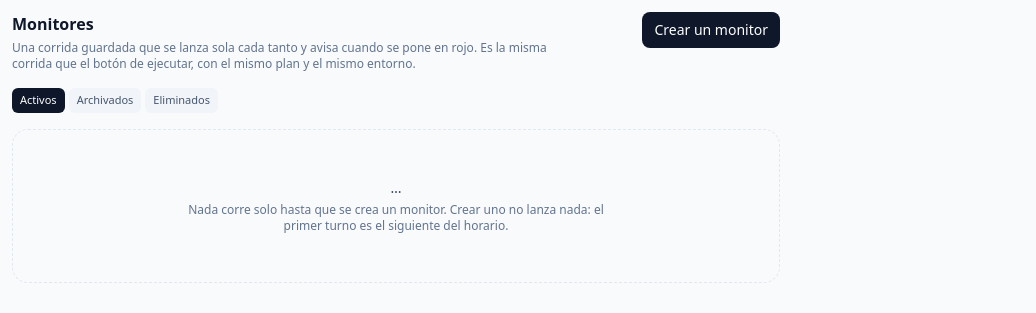
Test: los tres filtros de los monitores › restaurar desde la papelera, y un fallo se dice
Click the tab "Eliminados". click: click(182, 100)
box: [145, 88, 218, 112]
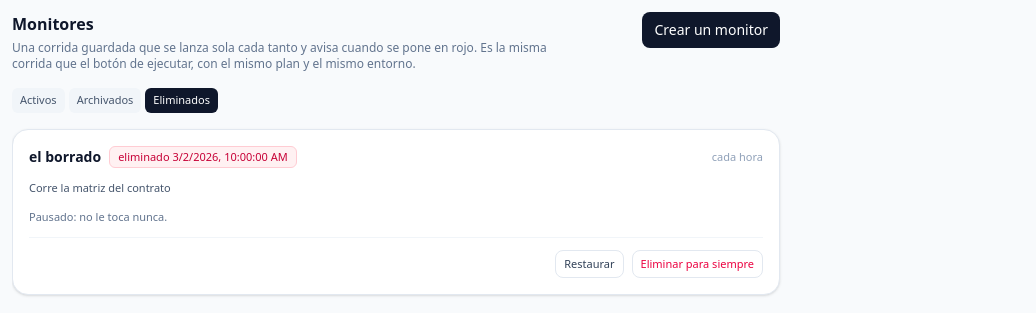
Click the button "Restaurar". click: click(589, 264)
box: [555, 250, 624, 278]
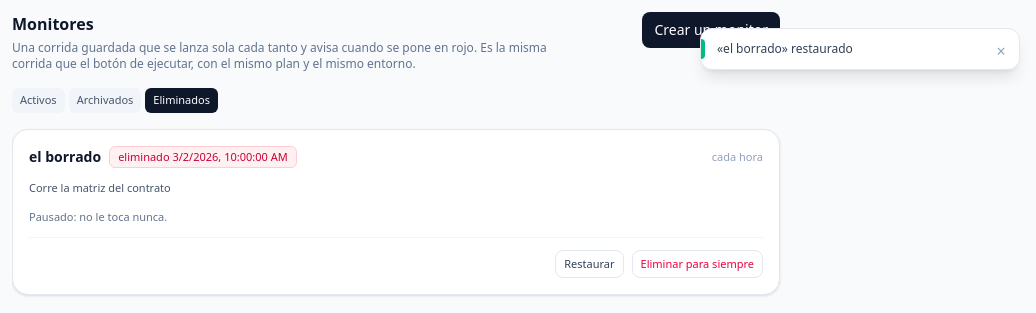
expect the text "«el borrado» restaurado" is shown: met, box [717, 40, 853, 57]
Click the button "Restaurar". click: click(589, 264)
box: [555, 250, 624, 278]
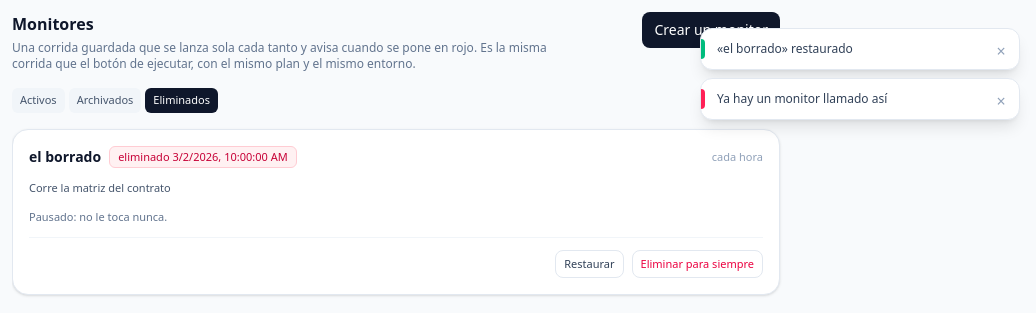
expect the text "Ya hay un monitor llamado así" is shown: met, box [717, 90, 887, 107]
